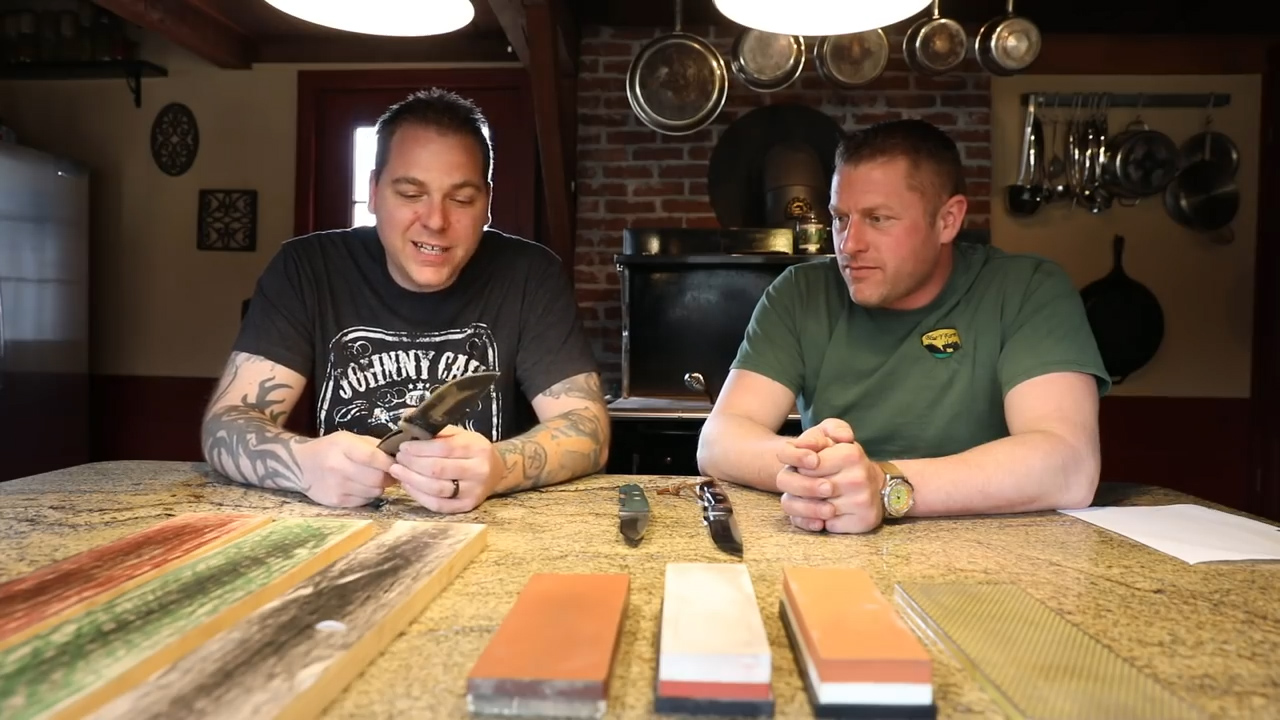knife: (342, 360, 512, 487)
